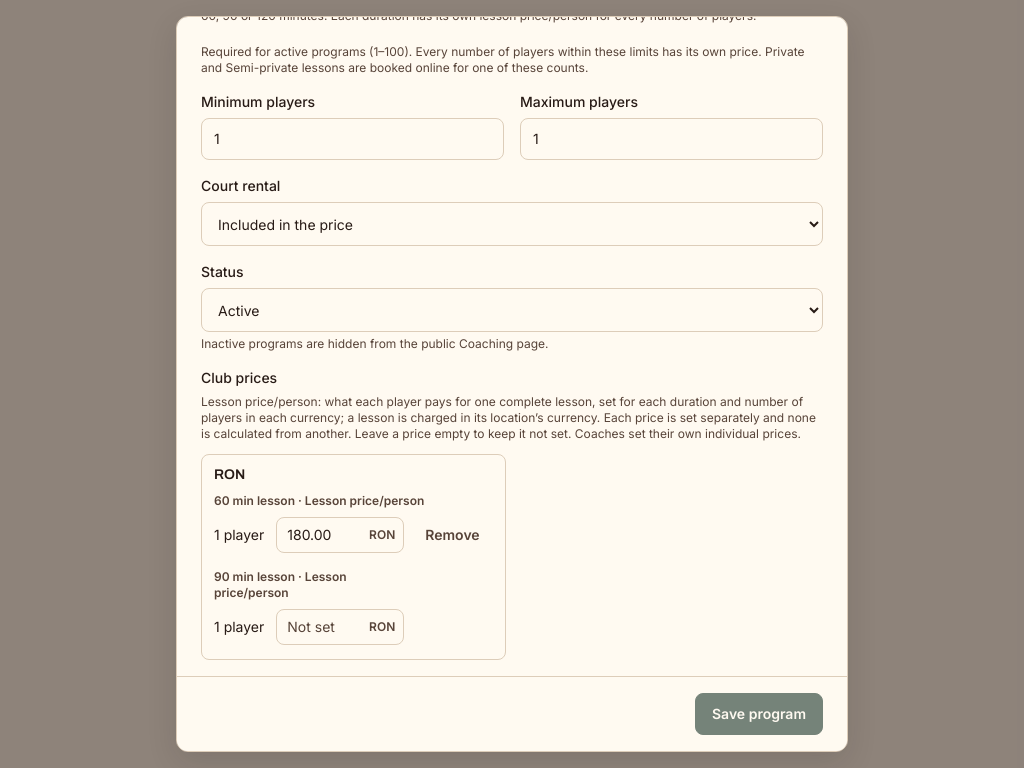
it: never treats a cleared price as zero or a removal, and rejects invalid amounts beside the field
(page scrolled)
Clear the field named "1 player, club 60 min lesson price/person in RON" at (323, 535), box [277,519,369,551]
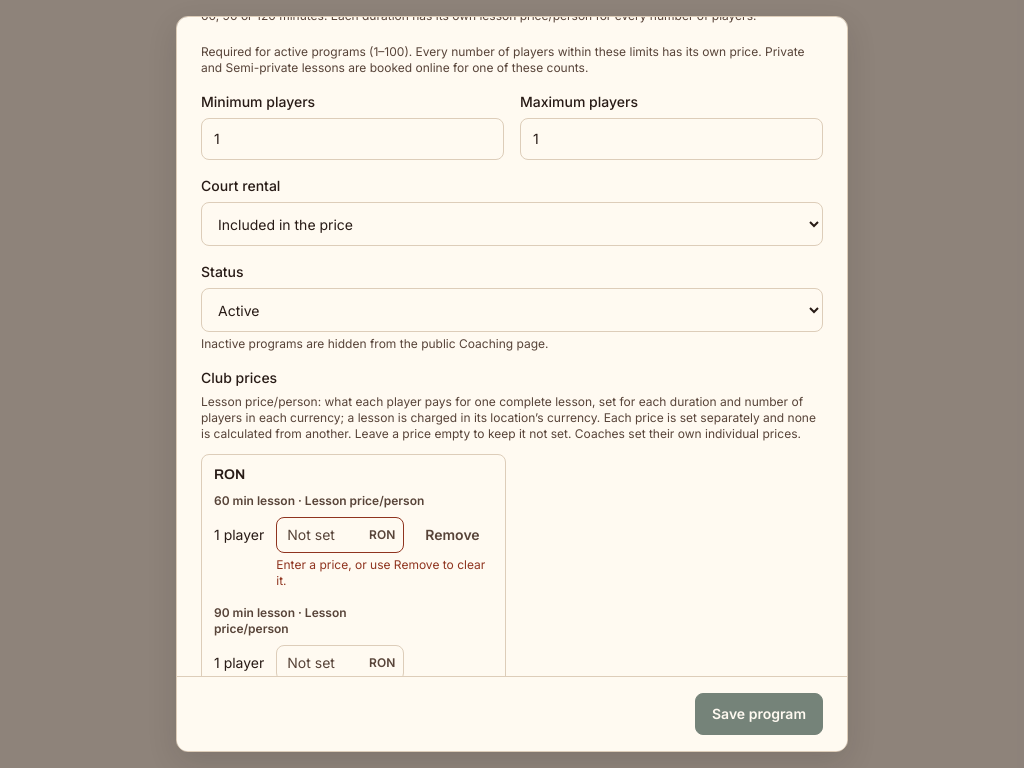
Expected: the button "Save program" is disabled, [695,693,823,735]
Now the text "Enter a price, or use Remove to clear it." is shown, box [276,557,493,589]
Type "-5" into the field named "1 player, club 60 min lesson price/person in RON" at (323, 535), box [277,519,369,551]
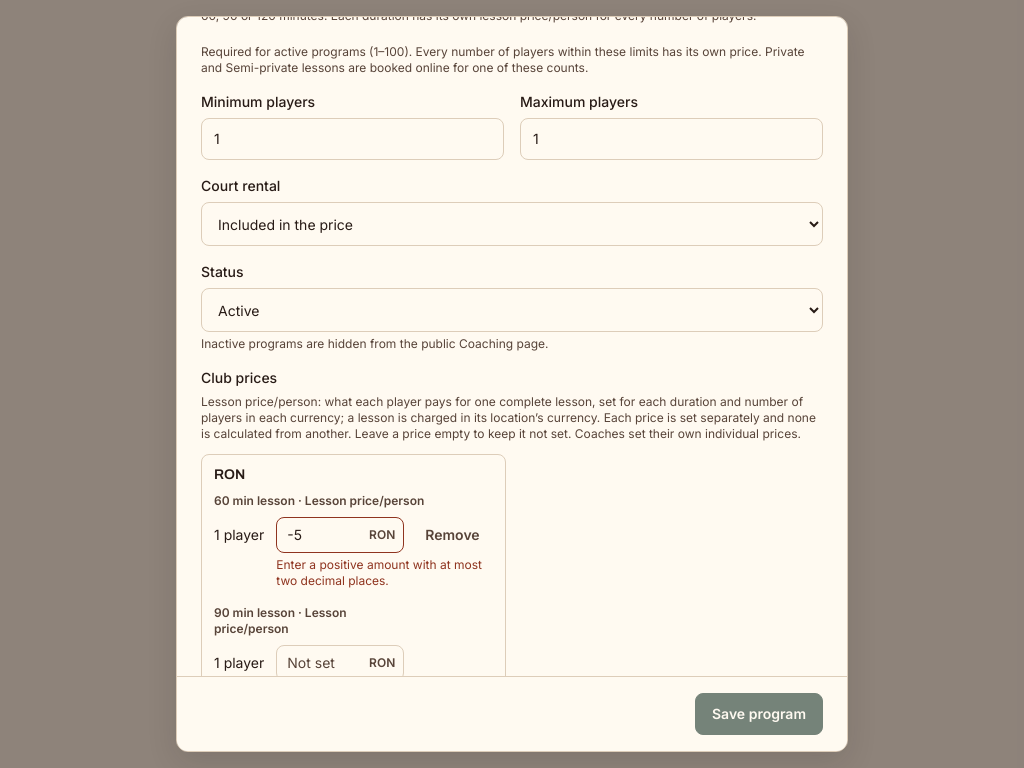
Expected: the button "Save program" is disabled, [695,693,823,735]
Now the text "Enter a positive amount with at most two decimal places." is shown, box [276,557,493,589]
Replace the text in the field named "1 player, club 60 min lesson price/person in RON" with "123.45" at (323, 535), box [277,519,369,551]
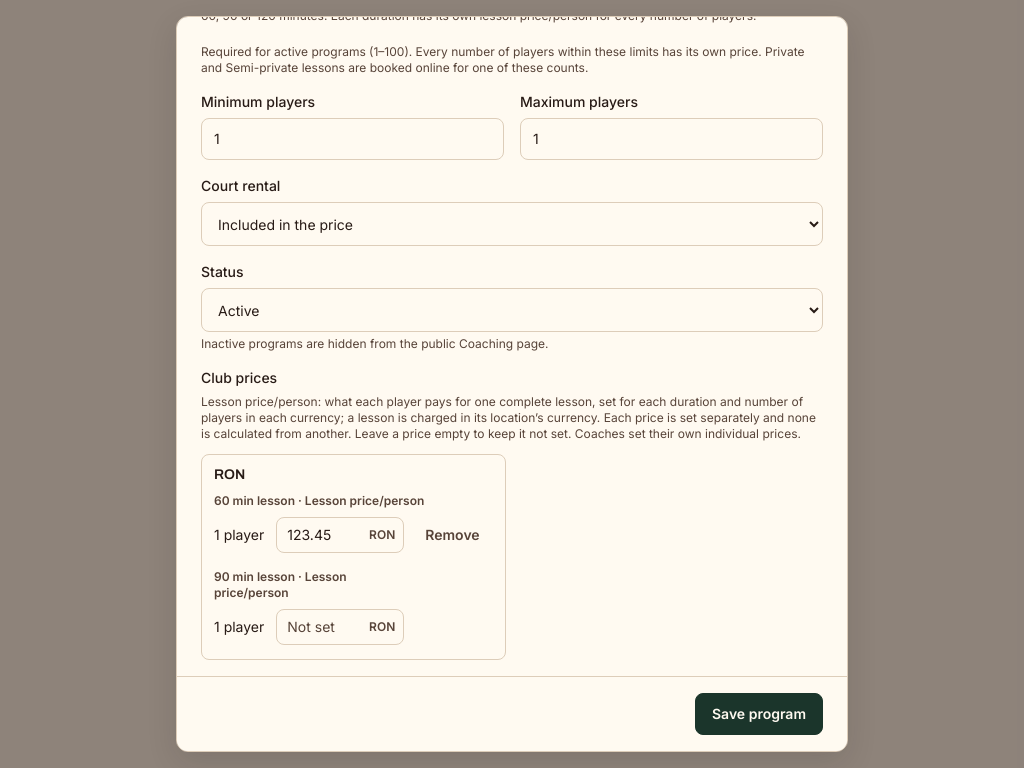
Click the button "Save program" at (759, 714), box [695,693,823,735]
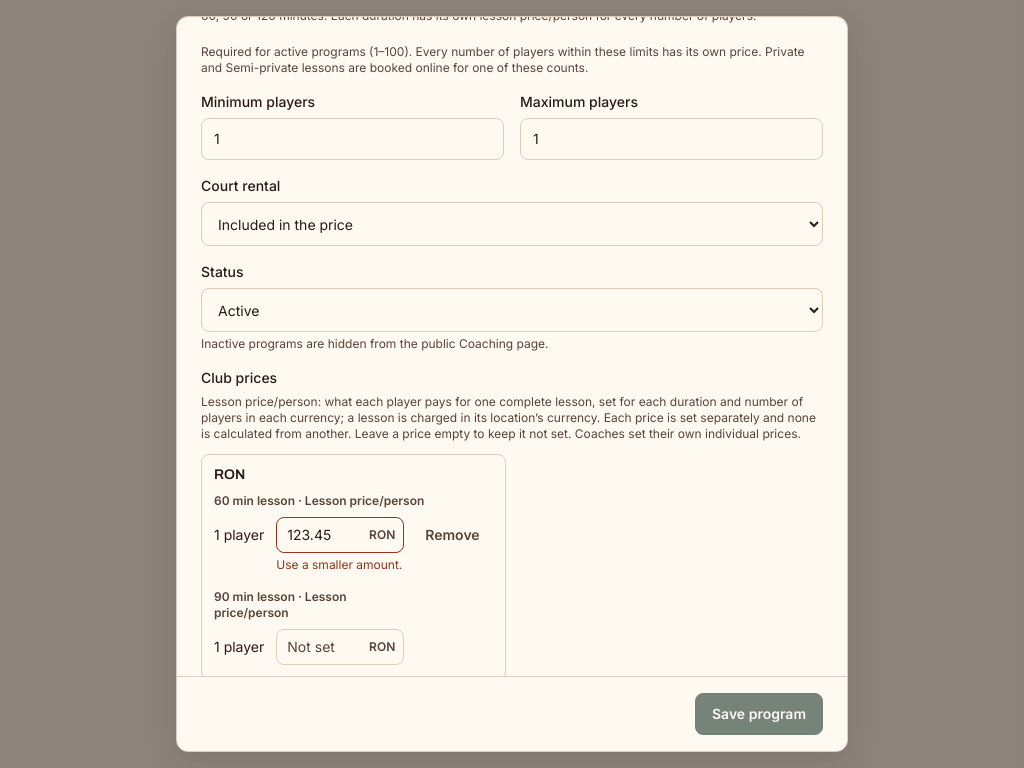
Now the text "Use a smaller amount." is shown, box [276,557,402,572]
